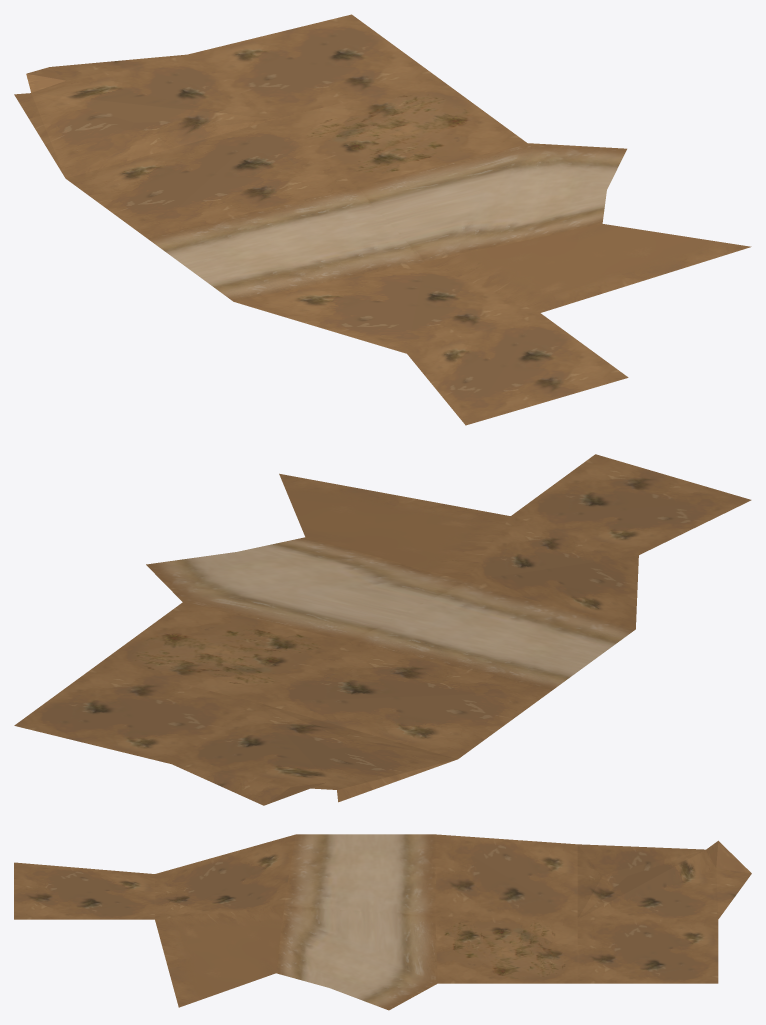
The picture shows the model from 3 angles, top to bottom: view 1: azimuth 30°, elevation 25°; view 2: azimuth 150°, elevation 25°; view 3: azimuth 270°, elevation 25°; orthographic projection. The views are drawn at different scales.
Parts seen in each view (by area): view 1: Object08; view 2: Object08; view 3: Object08.
Boxes of the visible parts, x1,y1,x2,y2 form: Object08: (14,14,751,425); Object08: (14,454,751,805); Object08: (14,834,751,1010).
Bounding box in the file's own units: 6324 × 380 × 11201.
Materials: 4 (4 with a texture image).
